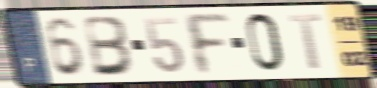0: (244, 11, 287, 75)
5: (141, 16, 186, 75)
6: (45, 15, 86, 79)
B: (82, 14, 137, 79)
F: (180, 11, 233, 77)
T: (286, 11, 324, 72)
